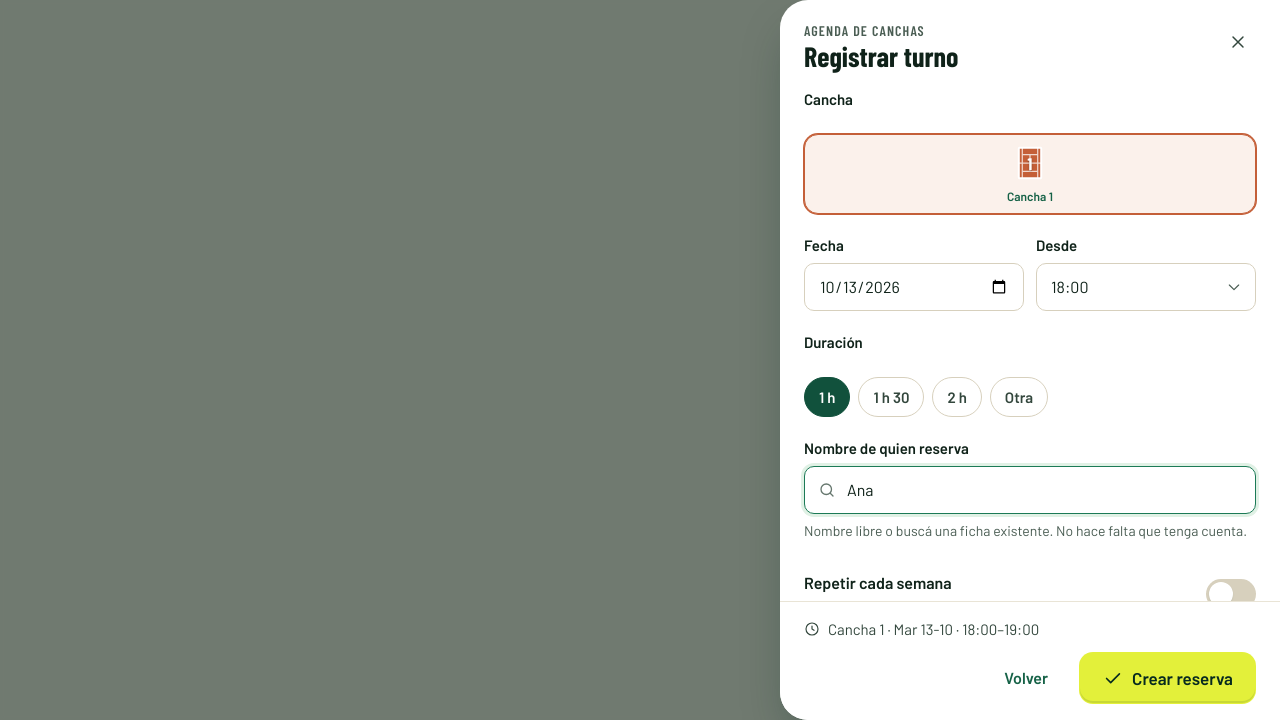
ReservationForm › conserva los datos y explica el conflicto si la base rechaza un solape
The image size is (1280, 720).
Click the button "Crear reserva" at [1168, 678], box [1079,652,1256,704]
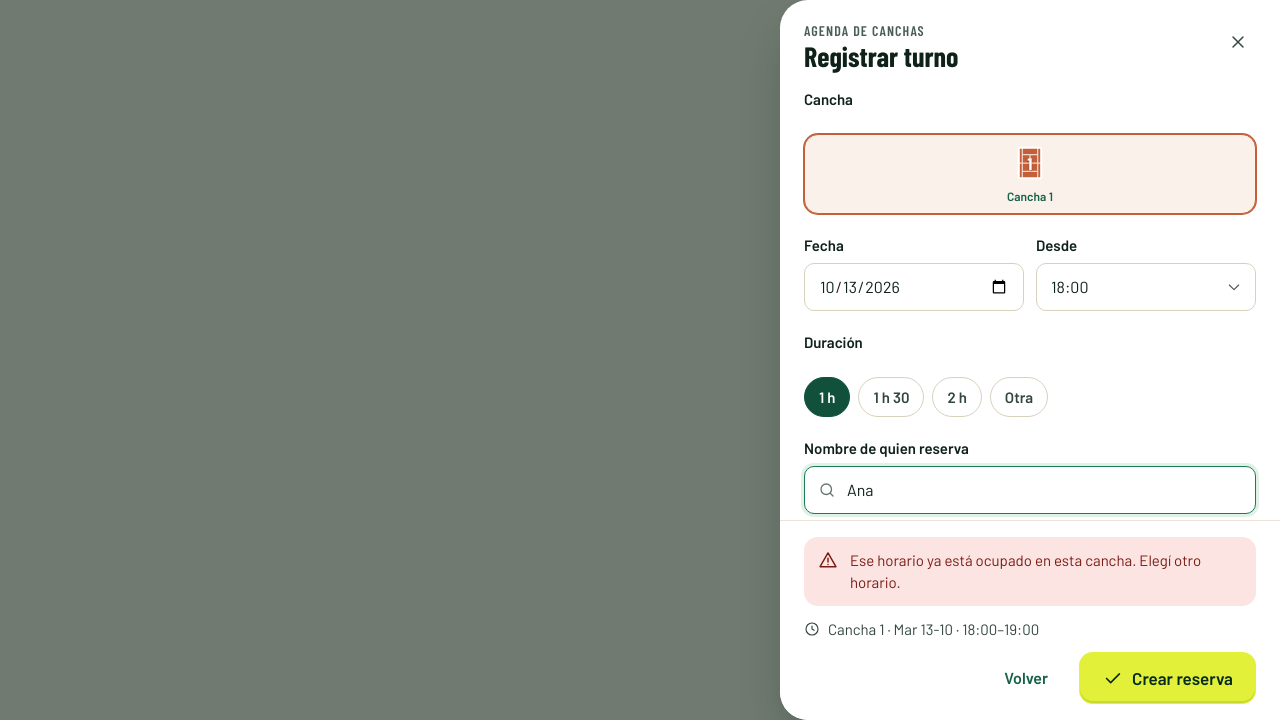
Expected: the field labelled "Nombre de quien reserva" holds "Ana", [804,466,1256,514]
Now the text "Ese horario ya está ocupado en esta cancha. Elegí otro horario." is shown, box [850,548,1242,594]
